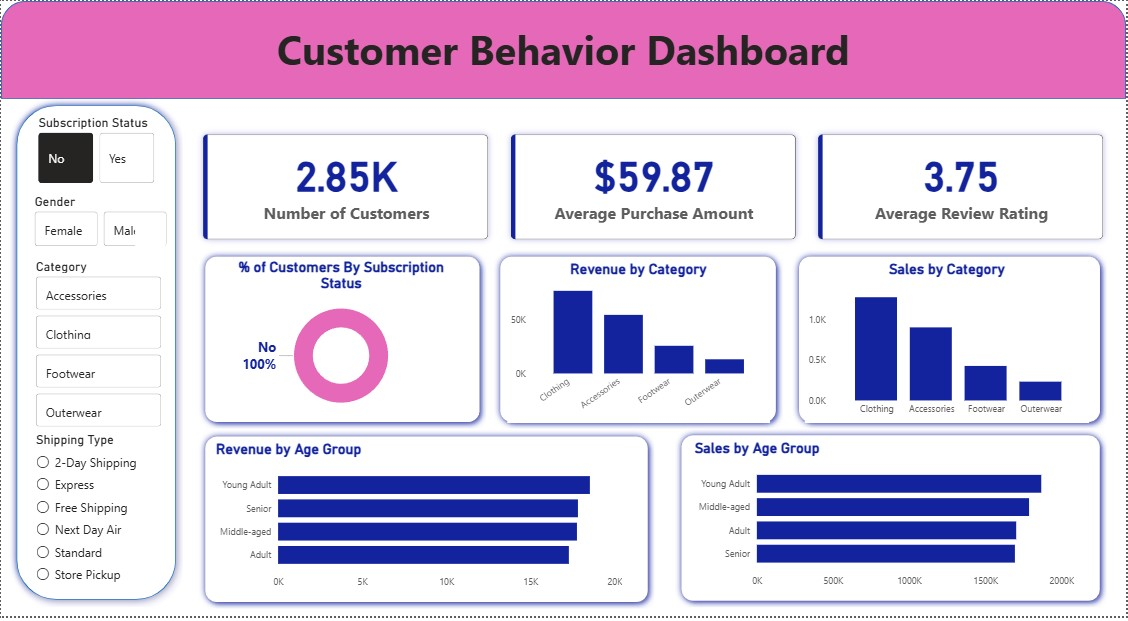

This screenshot's page, from the dashboard's own definition file:
{"tool":"powerbi","page":{"name":"Page 1","canvas":[1500,820],"ordinal":0},"visuals":[{"type":"cardVisual","fields":{"Data":["public customer.Number of Customers","public customer.Average Purchase Amount","public customer.Average Review Rating"]},"box":[241.9,150,1258.1,196.8],"z":0},{"type":"shape","box":[0,0,1500,130.6],"z":1000},{"type":"textbox","box":[0,22.6,1500,87.1],"z":2000},{"type":"shape","box":[262.9,332.3,383.9,238.7],"z":3000},{"type":"donutChart","title":"% of Customers By Subscription Status","fields":{"Category":["public customer.subscription_status"],"Y":["CountNonNull(public customer.customer_id)"]},"box":[287.1,343.5,333.9,216.1],"z":4000},{"type":"shape","box":[656.5,332.3,385.5,238.7],"z":5000},{"type":"shape","box":[1054.8,332.3,419.4,238.7],"z":6000},{"type":"clusteredColumnChart","title":"Revenue by Category","fields":{"Category":["public customer.category"],"Y":["Sum(public customer.purchase_amount)"]},"box":[674.2,346.8,350,216.1],"z":7000},{"type":"clusteredColumnChart","title":"Sales by Category","fields":{"Category":["public customer.category"],"Y":["CountNonNull(public customer.customer_id)"]},"box":[1071,346.8,379,216.1],"z":8000},{"type":"shape","box":[11.3,130.6,230.6,677.4],"z":9000},{"type":"advancedSlicerVisual","title":"Subscription Status","fields":{"Values":["public customer.subscription_status"]},"box":[45.2,151.6,164.5,96.8],"z":10000},{"type":"advancedSlicerVisual","title":"Gender","fields":{"Values":["public customer.gender"]},"box":[40.3,256.5,187.1,75.8],"z":11000},{"type":"advancedSlicerVisual","title":"Category","fields":{"Values":["public customer.category"]},"box":[41.9,343.5,177.4,232.3],"z":12000},{"type":"listSlicer","title":"Shipping Type","fields":{"Values":["public customer.shipping_type"]},"box":[41.9,575.8,169.4,209.7],"z":13000},{"type":"shape","box":[262.9,571,608.1,238.7],"z":14000},{"type":"clusteredBarChart","title":"Revenue by Age Group","fields":{"Y":["Sum(public customer.previous_purchases)"],"Category":["public customer.age_group"]},"box":[282.3,587.1,551.6,206.5],"z":15000},{"type":"shape","box":[898.4,569.4,575.8,238.7],"z":16000},{"type":"clusteredBarChart","title":"Sales by Age Group","fields":{"Y":["Sum(public customer.customer_id)"],"Category":["public customer.age_group"]},"box":[919.4,585.5,516.1,206.5],"z":17000}]}

Visuals, with their boxes in screenshot pixels (x1, y1, x2, y2), scaled from the page's 1500x820 canvas onto the 1128x621 screenshot:
cardVisual - public customer.Number of Customers x public customer.Average Purchase Amount: BBox(182, 114, 1127, 263)
shape: BBox(0, 0, 1127, 99)
textbox: BBox(0, 17, 1127, 83)
shape: BBox(198, 252, 486, 432)
"% of Customers By Subscription Status" donutChart: BBox(216, 260, 467, 424)
shape: BBox(494, 252, 784, 432)
shape: BBox(793, 252, 1109, 432)
"Revenue by Category" clusteredColumnChart: BBox(507, 263, 770, 426)
"Sales by Category" clusteredColumnChart: BBox(805, 263, 1090, 426)
shape: BBox(8, 99, 182, 612)
"Subscription Status" advancedSlicerVisual: BBox(34, 115, 158, 188)
"Gender" advancedSlicerVisual: BBox(30, 194, 171, 252)
"Category" advancedSlicerVisual: BBox(32, 260, 165, 436)
"Shipping Type" listSlicer: BBox(32, 436, 159, 595)
shape: BBox(198, 432, 655, 613)
"Revenue by Age Group" clusteredBarChart: BBox(212, 445, 627, 601)
shape: BBox(676, 431, 1109, 612)
"Sales by Age Group" clusteredBarChart: BBox(691, 443, 1079, 600)
